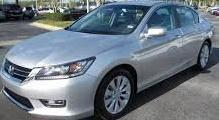Cars: (1, 4, 215, 120)
